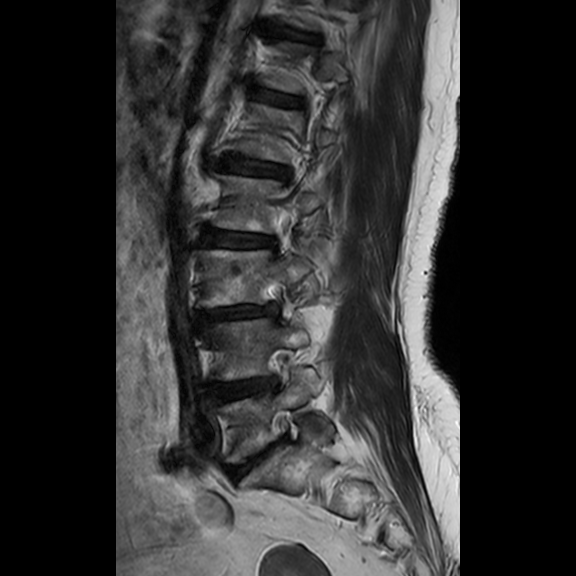RFS1: (256, 398, 309, 459)
